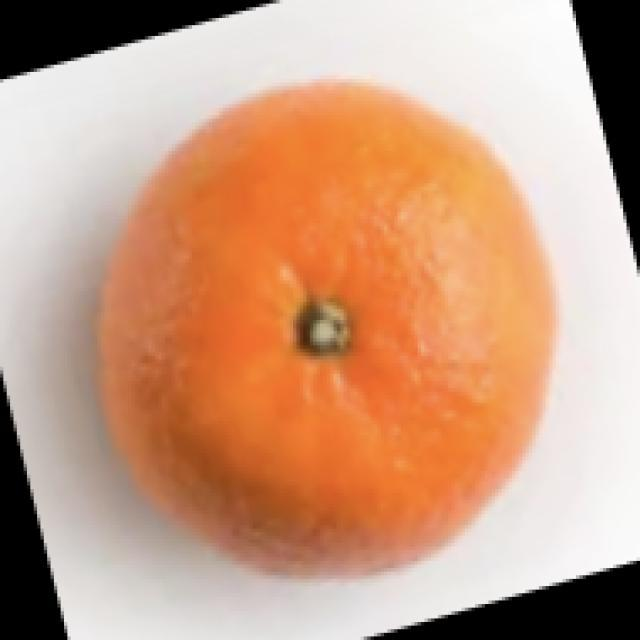matang: (99, 84, 554, 566)
